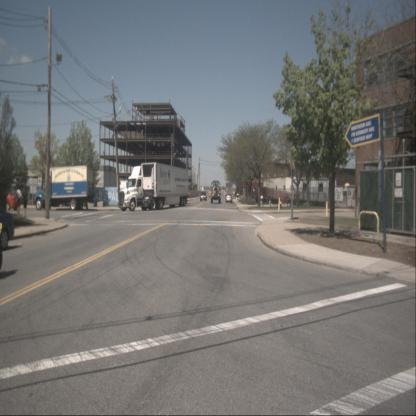human-pedestrian-adult: (16, 185, 22, 217), (22, 186, 28, 218)
vehicle-car: (0, 203, 14, 250), (0, 190, 21, 211), (226, 194, 233, 204), (200, 191, 207, 201)
vehicle-truck: (33, 165, 94, 211), (118, 166, 143, 212)
